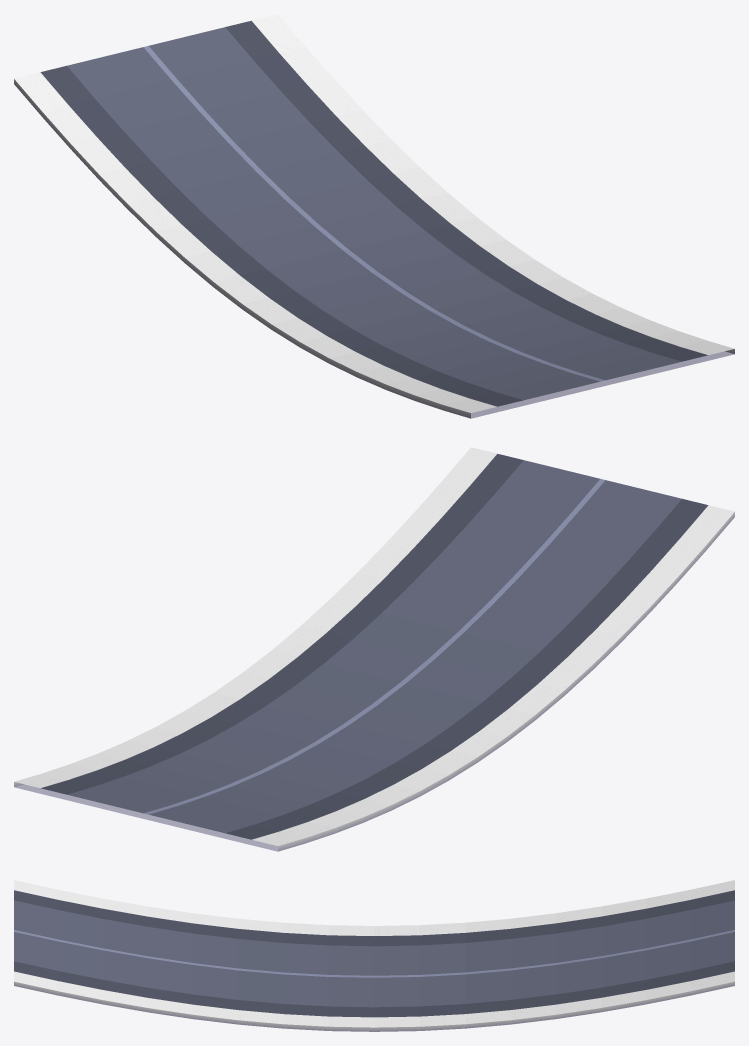
Rendered from road-Straight-BiSlopeDown-BiSlopeUp-Even-Center-Size3.glb.
3 views of the same model, one above another, from view 1: azimuth 30°, elevation 25°; view 2: azimuth 150°, elevation 25°; view 3: azimuth 270°, elevation 25° (orthographic). The views are drawn at different scales.
Parts seen in each view (by area): view 1: road-Straight-BiSlopeDown-BiSlopeUp-Even-Center-Size3; view 2: road-Straight-BiSlopeDown-BiSlopeUp-Even-Center-Size3; view 3: road-Straight-BiSlopeDown-BiSlopeUp-Even-Center-Size3.
Boxes of the visible parts, bbox=[...] form: road-Straight-BiSlopeDown-BiSlopeUp-Even-Center-Size3: bbox=[14, 14, 734, 418]; road-Straight-BiSlopeDown-BiSlopeUp-Even-Center-Size3: bbox=[14, 447, 734, 851]; road-Straight-BiSlopeDown-BiSlopeUp-Even-Center-Size3: bbox=[14, 880, 734, 1031].
Bounding box in the file's own units: 1 × 0.2309 × 3.
1 material, 1 textured.
